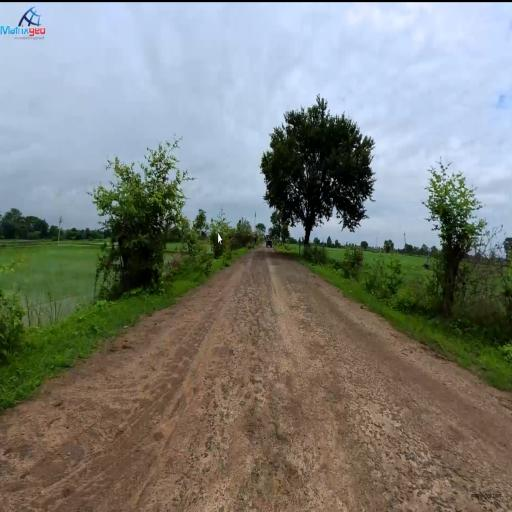ravelling: (220, 350, 423, 496)
